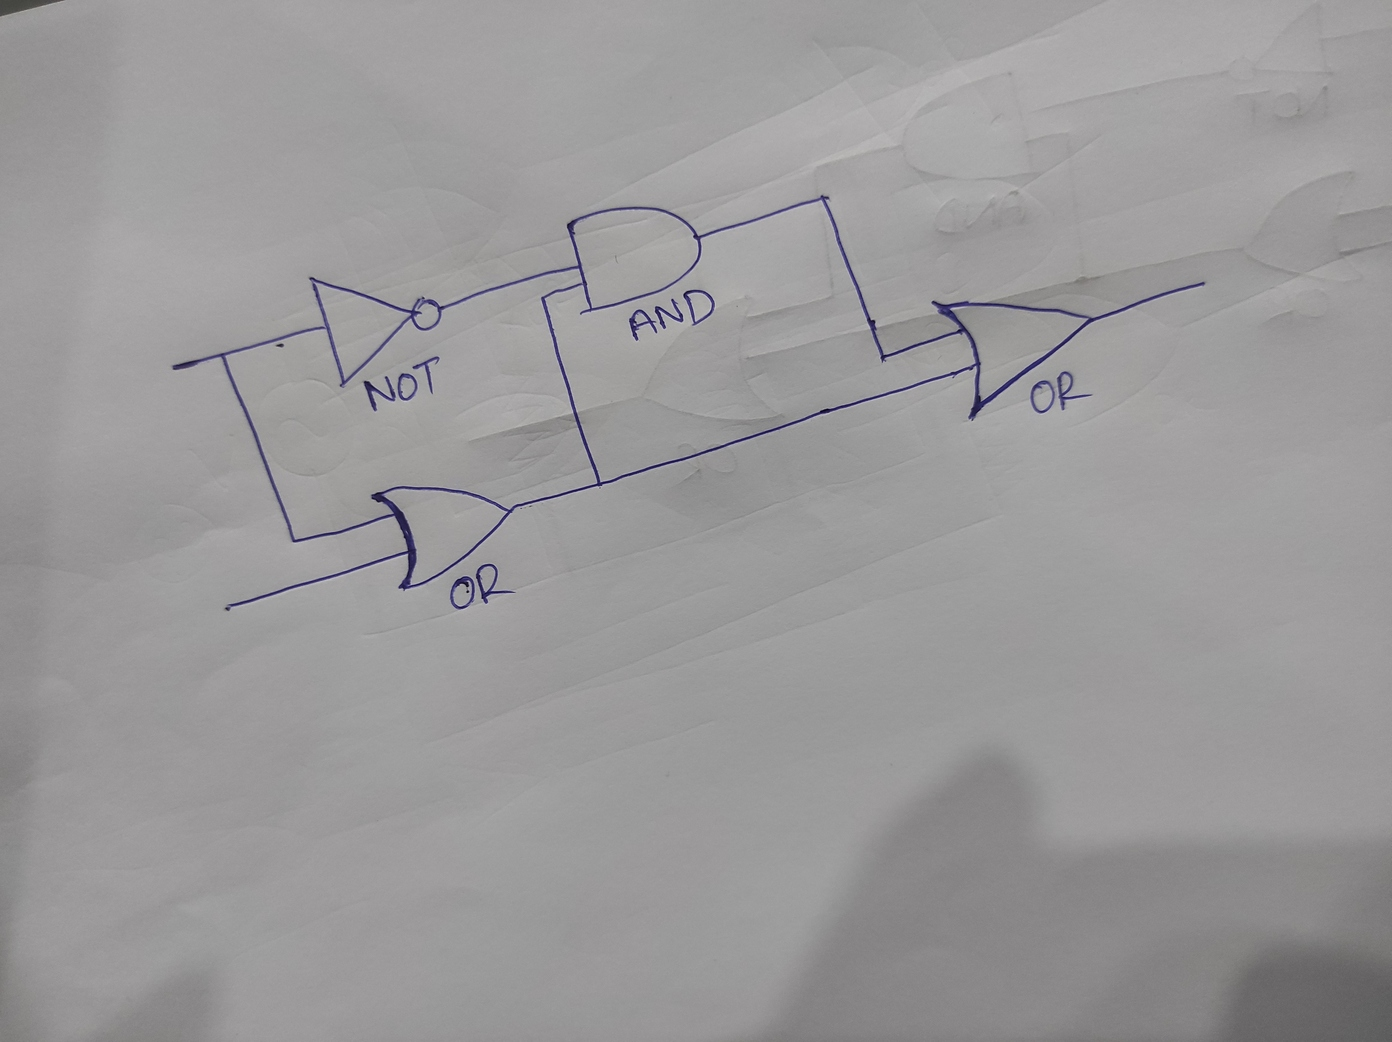and: (564, 200, 705, 319)
junction: (805, 184, 842, 216), (588, 470, 613, 496), (871, 347, 894, 368), (283, 531, 306, 549), (213, 348, 230, 364), (536, 289, 553, 304)
not: (305, 273, 446, 387)
or: (926, 296, 1098, 422), (367, 482, 518, 592)
terminal: (1180, 269, 1213, 298), (217, 598, 239, 617), (167, 360, 185, 377)
text: (362, 354, 442, 413), (625, 290, 717, 340), (446, 560, 519, 613), (1028, 368, 1094, 417)
